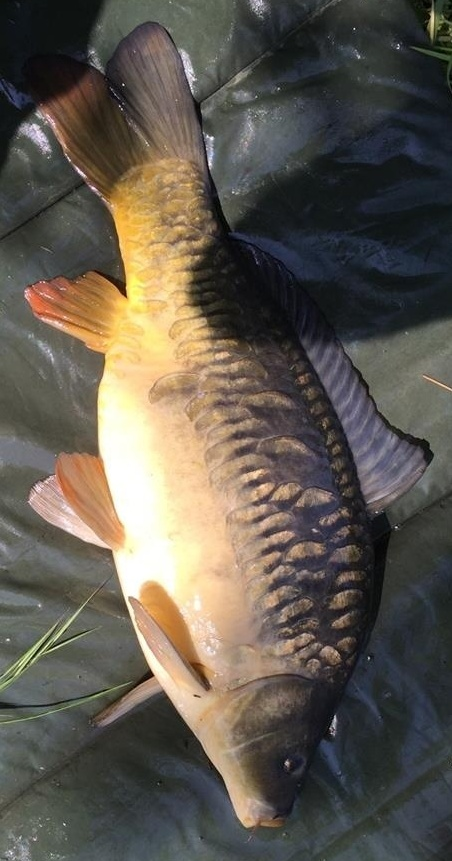Cyprinus carpio: (20, 20, 432, 841)
